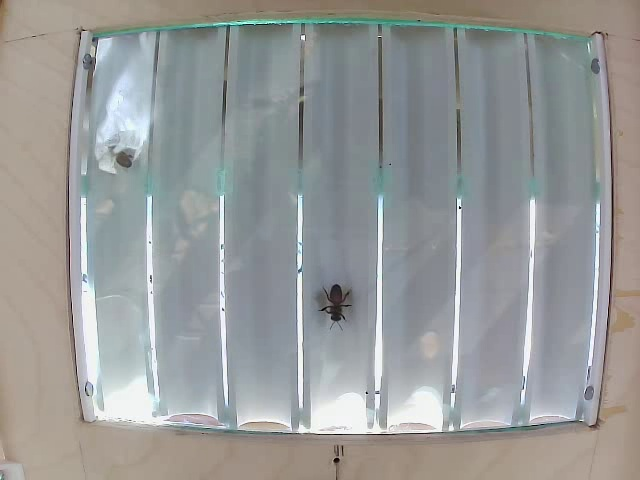bee: (316, 275, 356, 336), (102, 129, 142, 177)
